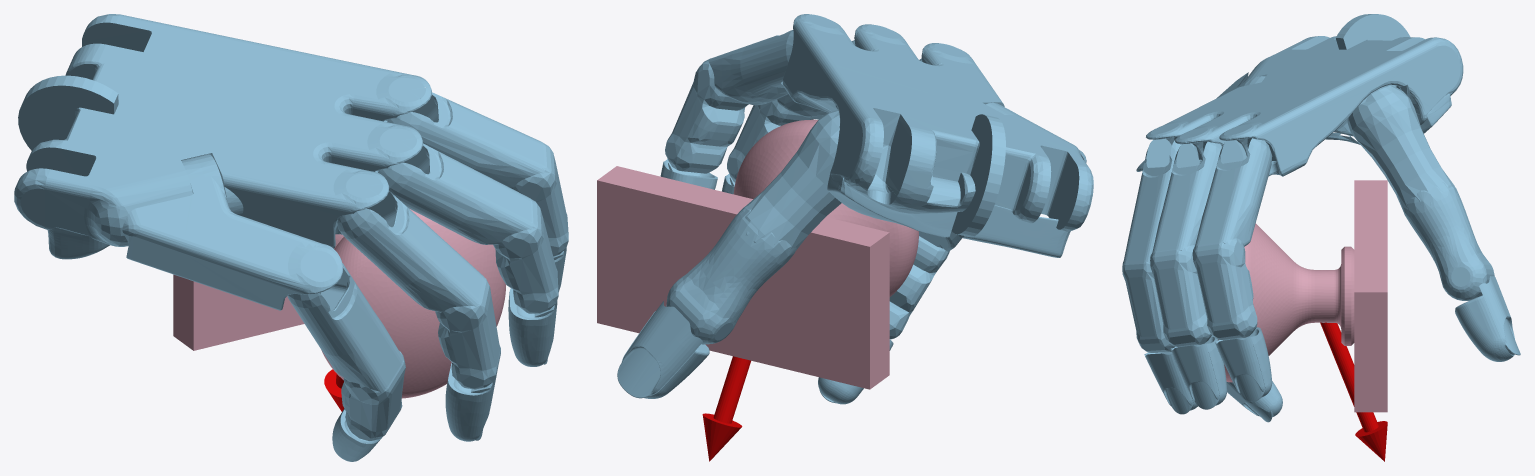
3 renders of one model, left to right at view 1: azimuth 30°, elevation 25°; view 2: azimuth 150°, elevation 25°; view 3: azimuth 270°, elevation 25°, orthographic. The views are drawn at different scales.
Parts seen in each view (by area): view 1: world, door_knob.stl; view 2: world, door_knob.stl; view 3: world, door_knob.stl.
Boxes of the visible parts, x1,y1,x2,y2 form: world: (14,14,568,461); door_knob.stl: (173,209,505,398); world: (617,14,1093,461); door_knob.stl: (597,119,918,389); world: (1122,14,1520,461); door_knob.stl: (1218,180,1387,412).
Bounding box in the file's own units: 0.1755 × 0.1437 × 0.1505.
